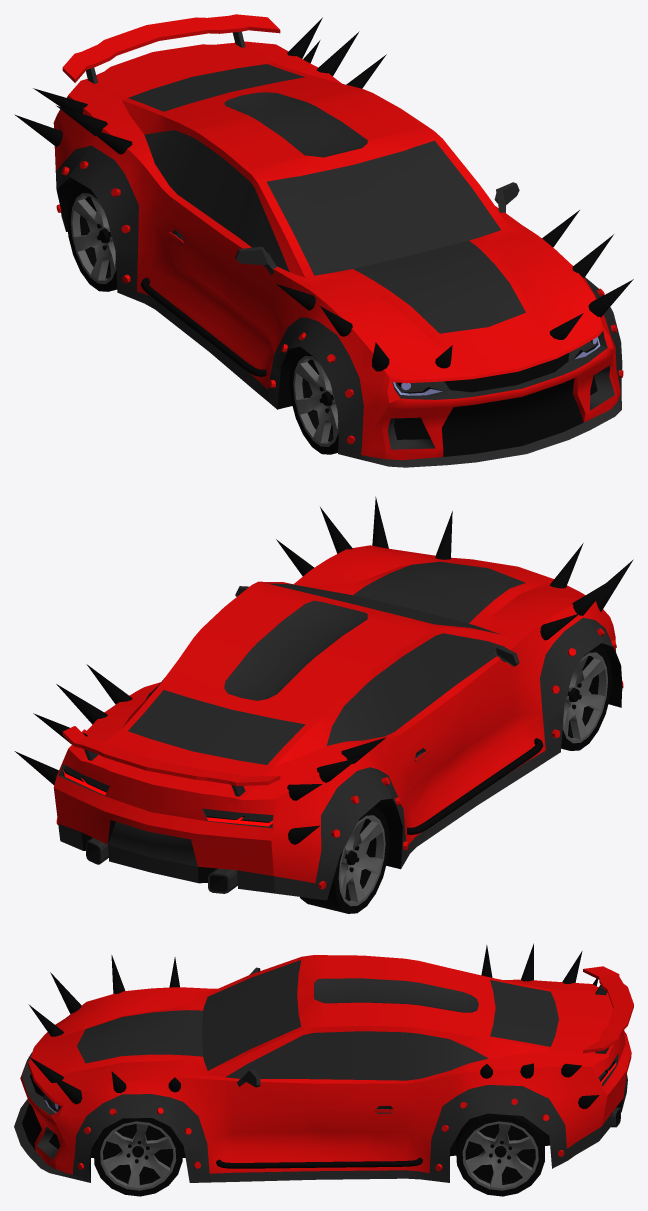
The model's file is ENEMY.fbx.
3 views of the same model, one above another, from view 1: azimuth 30°, elevation 25°; view 2: azimuth 150°, elevation 25°; view 3: azimuth 270°, elevation 25° (orthographic). The views are drawn at different scales.
Visible parts, largest first — view 1: ENEMY.CAR, Cylinder.006, Cylinder.005; view 2: ENEMY.CAR, Cylinder.006, Cylinder.005; view 3: ENEMY.CAR, Cylinder.004, Cylinder.003.
Part boxes in pixels (x1,y1,x2,y2): ENEMY.CAR: [14, 14, 633, 467]; Cylinder.006: [66, 185, 117, 291]; Cylinder.005: [289, 348, 338, 454]; ENEMY.CAR: [14, 496, 633, 900]; Cylinder.006: [300, 807, 389, 913]; Cylinder.005: [561, 645, 611, 750]; ENEMY.CAR: [14, 943, 633, 1182]; Cylinder.004: [456, 1113, 544, 1196]; Cylinder.003: [93, 1118, 182, 1196].
Size of the model in its own units: 246 by 144 by 528.
